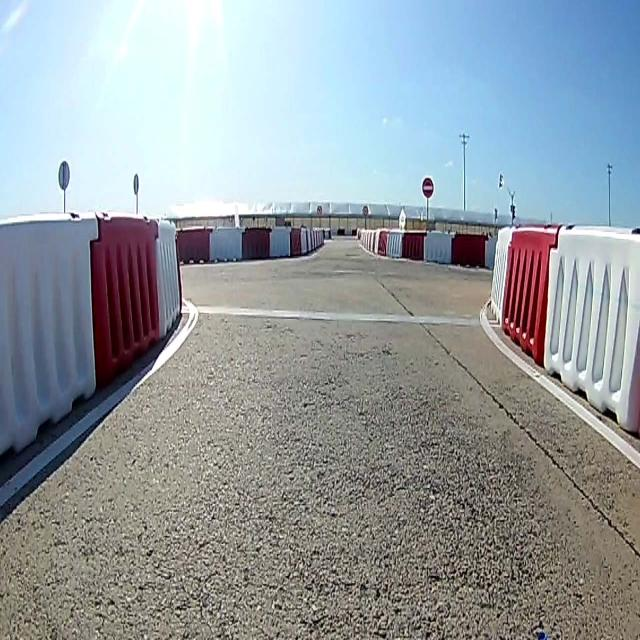girisyok: (422, 176, 434, 200)
